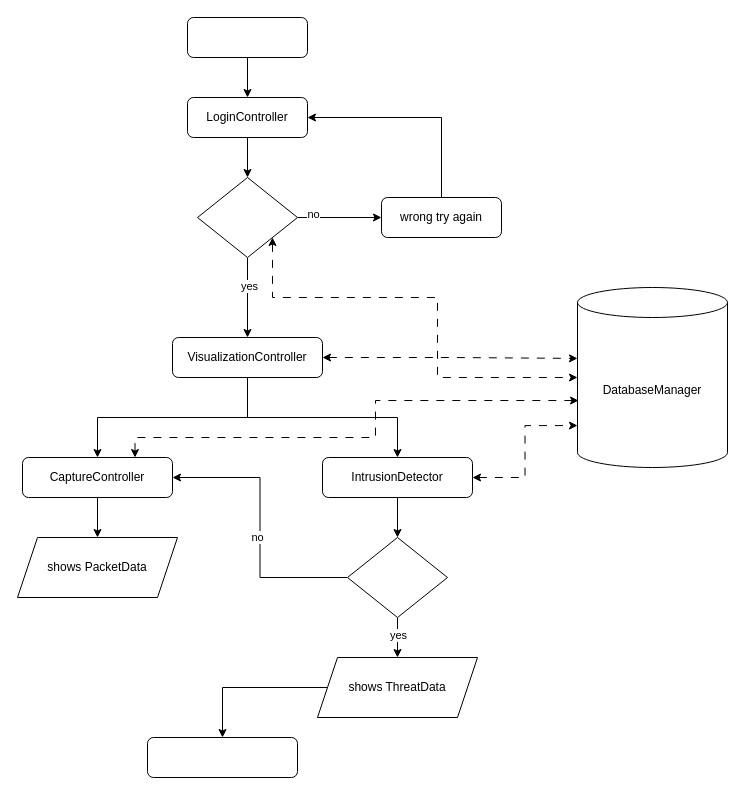
The diagram is 745 pixels wide and 795 high, and some of its shapes have lost their labels. The shapes that lost their labels are listed below. From the top down, each one's centre as x and y in pixels, then its label:
At point (247, 37): "MainApp".
At point (247, 217): "user and pass".
At point (397, 577): "is there any packets captured ?".
At point (222, 757): "authorize or block threat".
